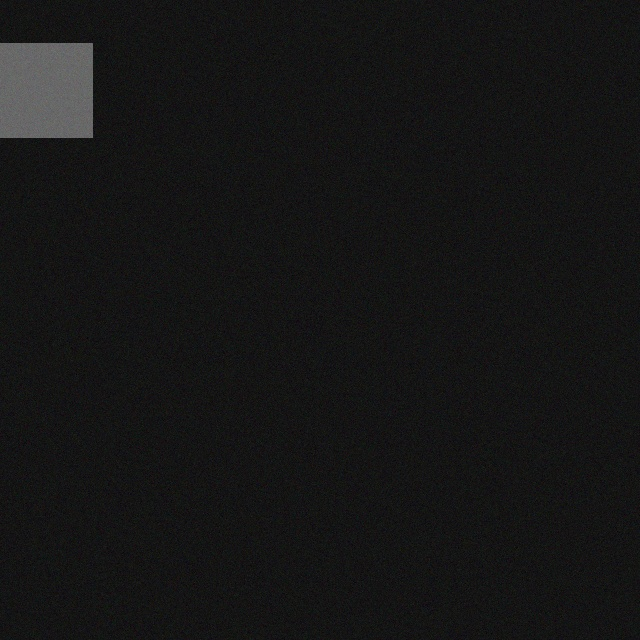square: (7, 42, 101, 136)
